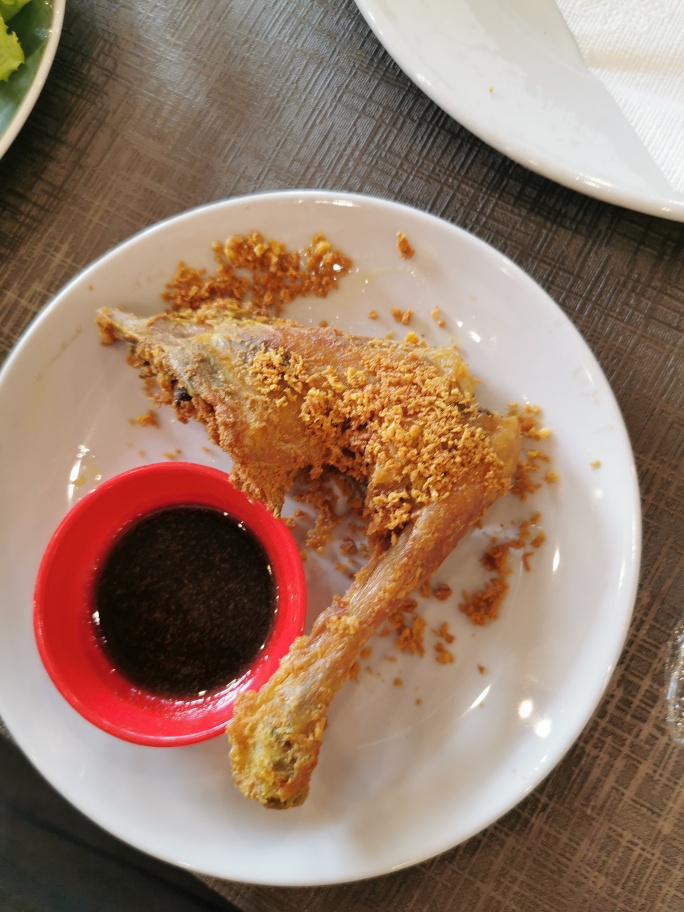ayam goreng: (94, 286, 523, 818)
kecap: (39, 457, 314, 744)
